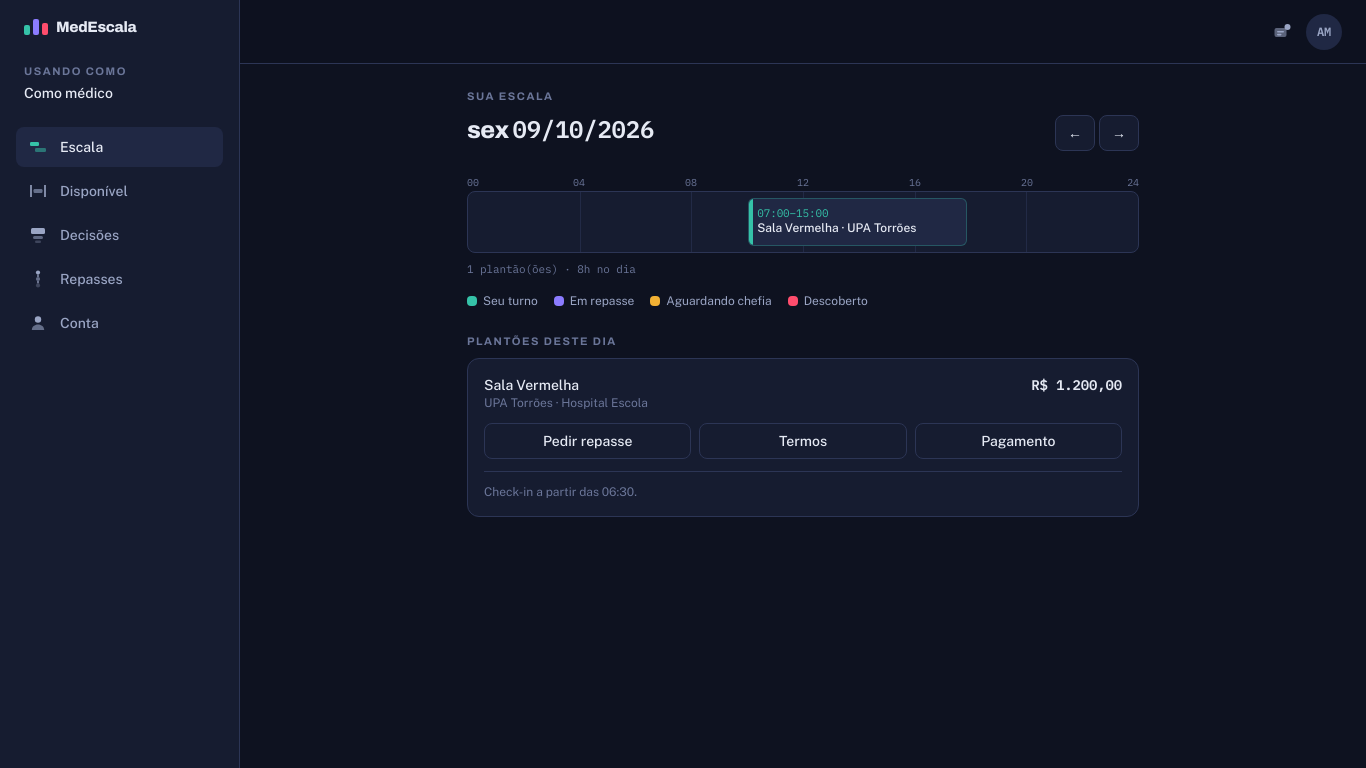
termos (F13) › mostra quem assinou, o que falta e oferece o PDF
Click the button "Termos" at (803, 440), box [699, 422, 907, 458]
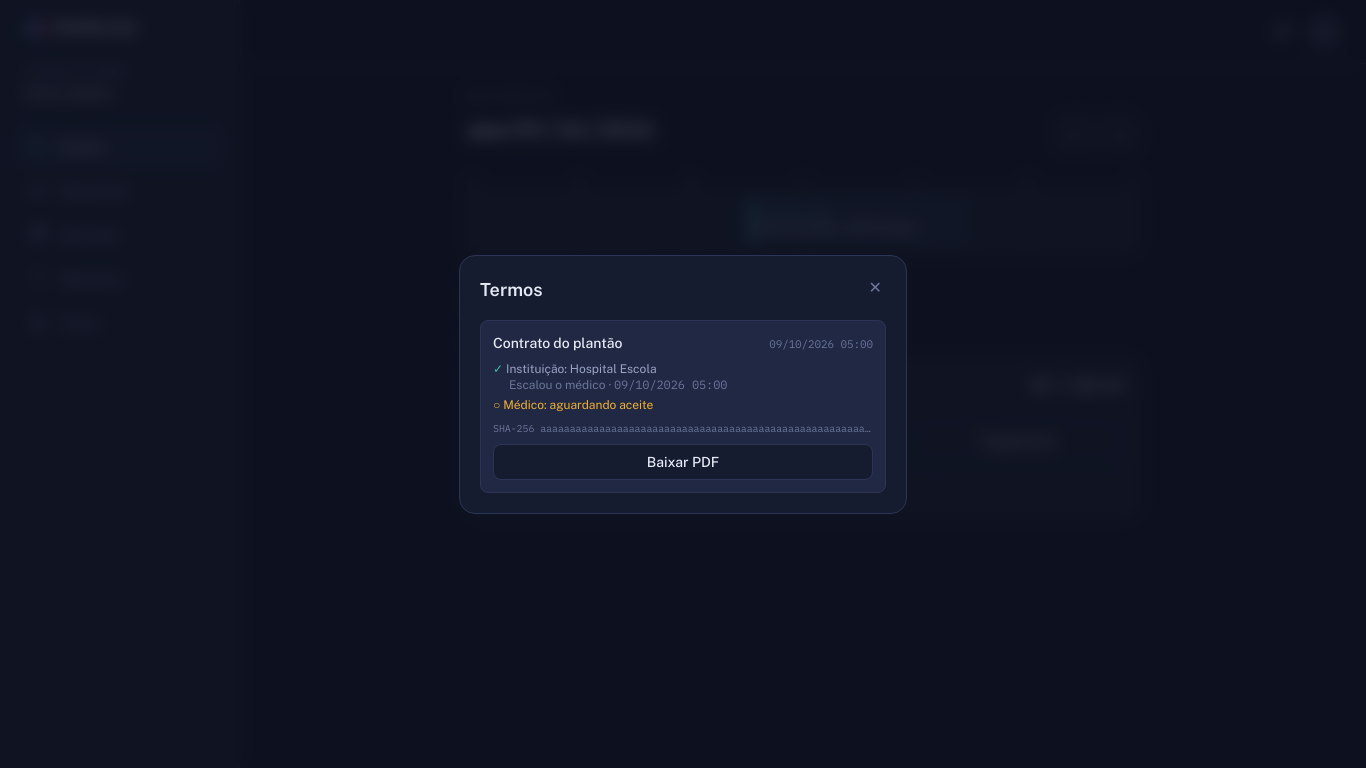
Now the text "Contrato do plantão" is shown, box [493, 332, 622, 352]
Now the text "Escalou o médico · 09/10/2026 05:00" is shown, box [509, 376, 727, 392]
Now the list item "○ Médico: aguardando aceite" is shown, box [493, 398, 653, 412]
